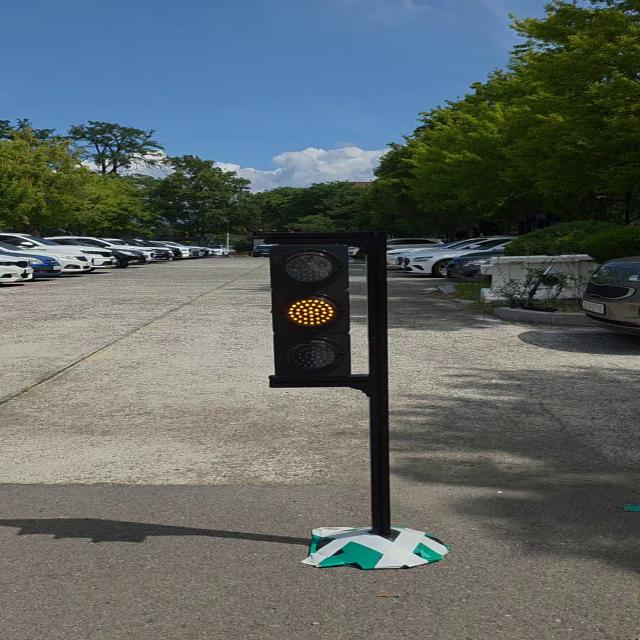yellow: (258, 232, 364, 388)
